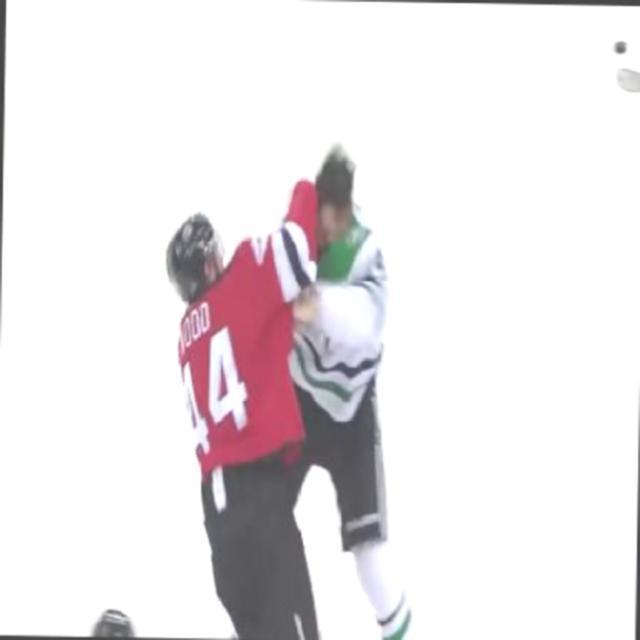fight: (152, 143, 405, 639)
